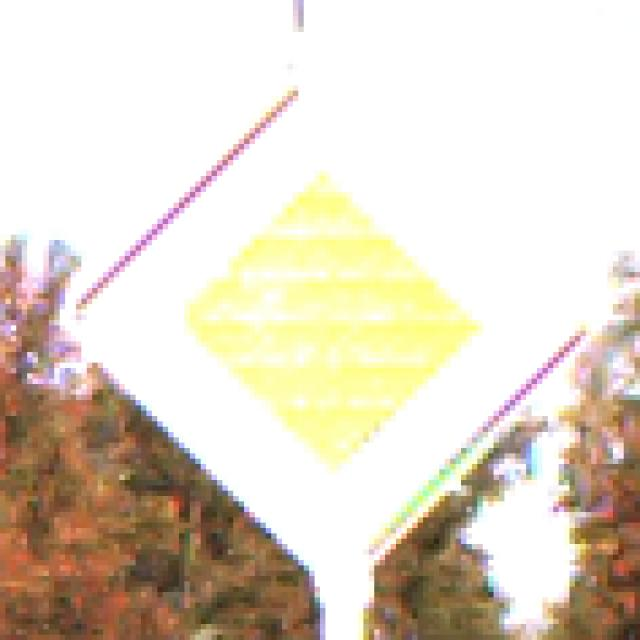Main Road: (55, 60, 587, 588)
